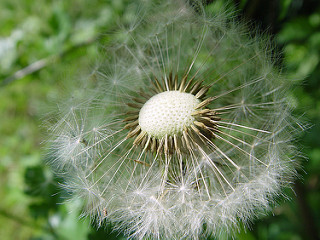dandelion: (27, 2, 309, 239)
